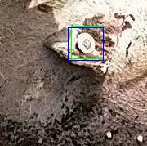text: (71, 26, 103, 58)
